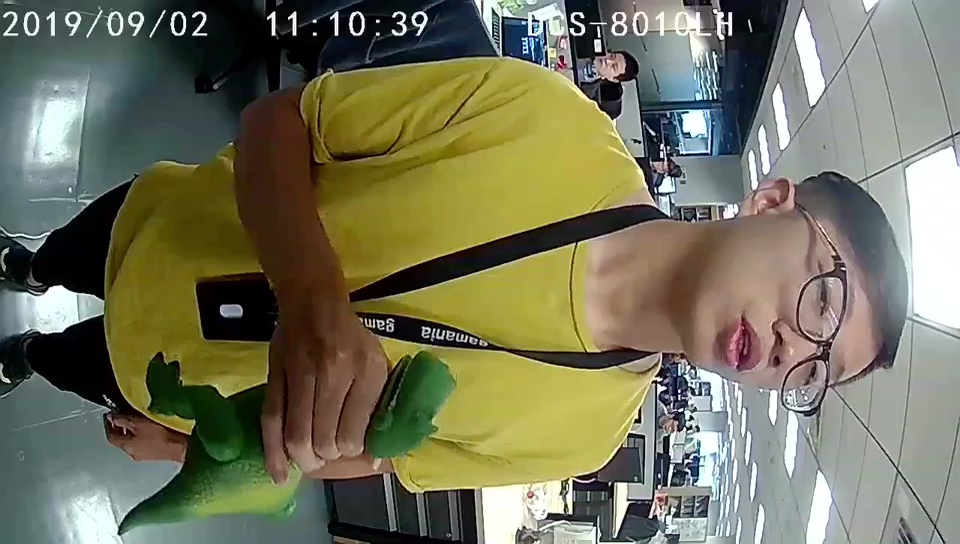rex: (179, 354, 457, 519)
